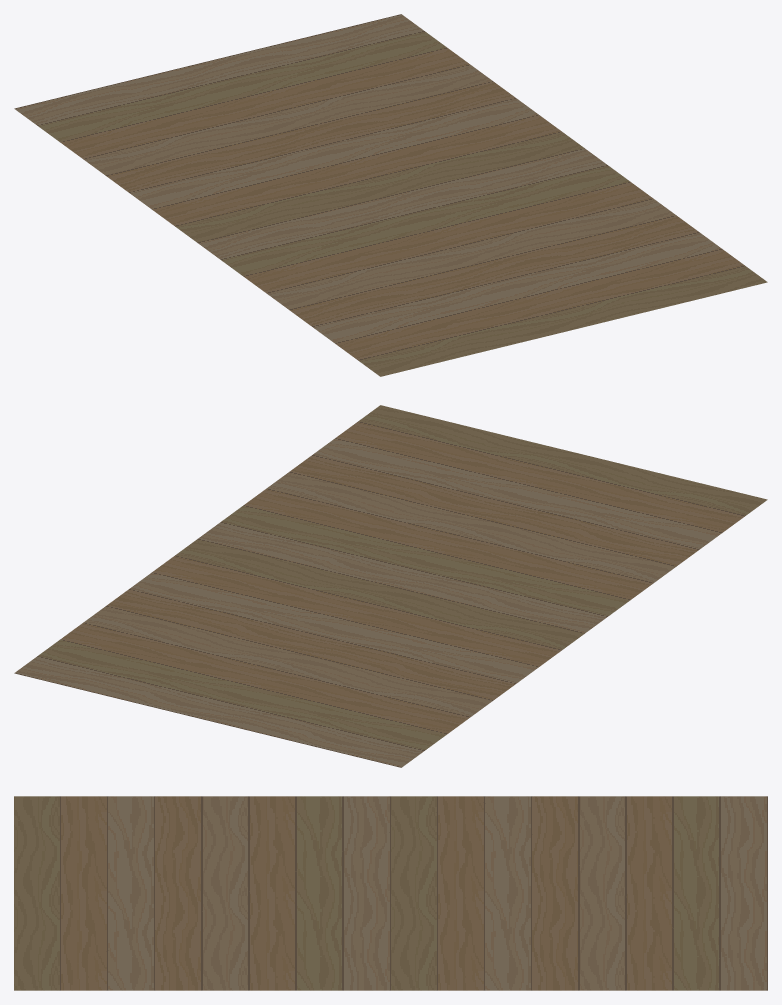
File: kd_stage_135c43_4_8_bounded_piece_1.glb
3 views of the same model, one above another, from view 1: azimuth 30°, elevation 25°; view 2: azimuth 150°, elevation 25°; view 3: azimuth 270°, elevation 25° (orthographic). The views are drawn at different scales.
Visible parts, largest first — view 1: kd_stage_135c43_4_8_bounded_piece_1; view 2: kd_stage_135c43_4_8_bounded_piece_1; view 3: kd_stage_135c43_4_8_bounded_piece_1.
Part boxes in pixels (left/top/right/bottom): kd_stage_135c43_4_8_bounded_piece_1: left=14, top=14, right=767, bottom=376; kd_stage_135c43_4_8_bounded_piece_1: left=14, top=405, right=767, bottom=767; kd_stage_135c43_4_8_bounded_piece_1: left=14, top=796, right=767, bottom=990.
Size of the model in its own units: 1.22 by 1.19e-07 by 2.
Materials: 1 (1 with a texture image).
